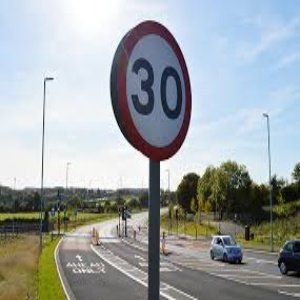30 speed: (114, 21, 193, 160)
